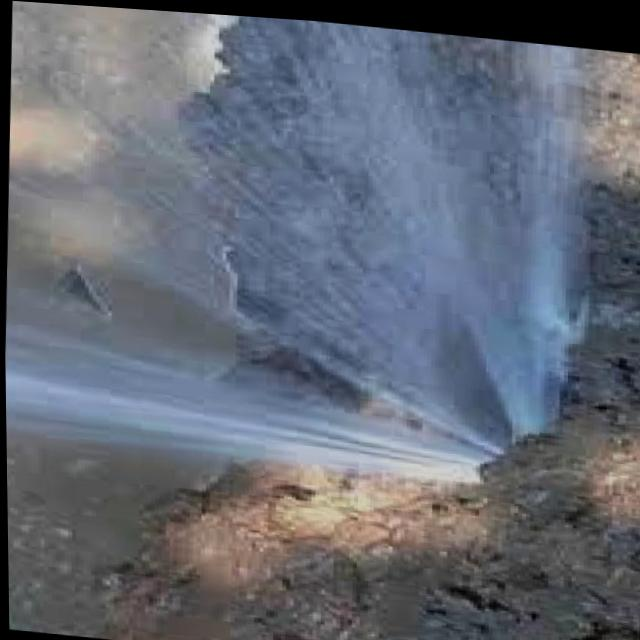leak: (5, 1, 584, 481)
